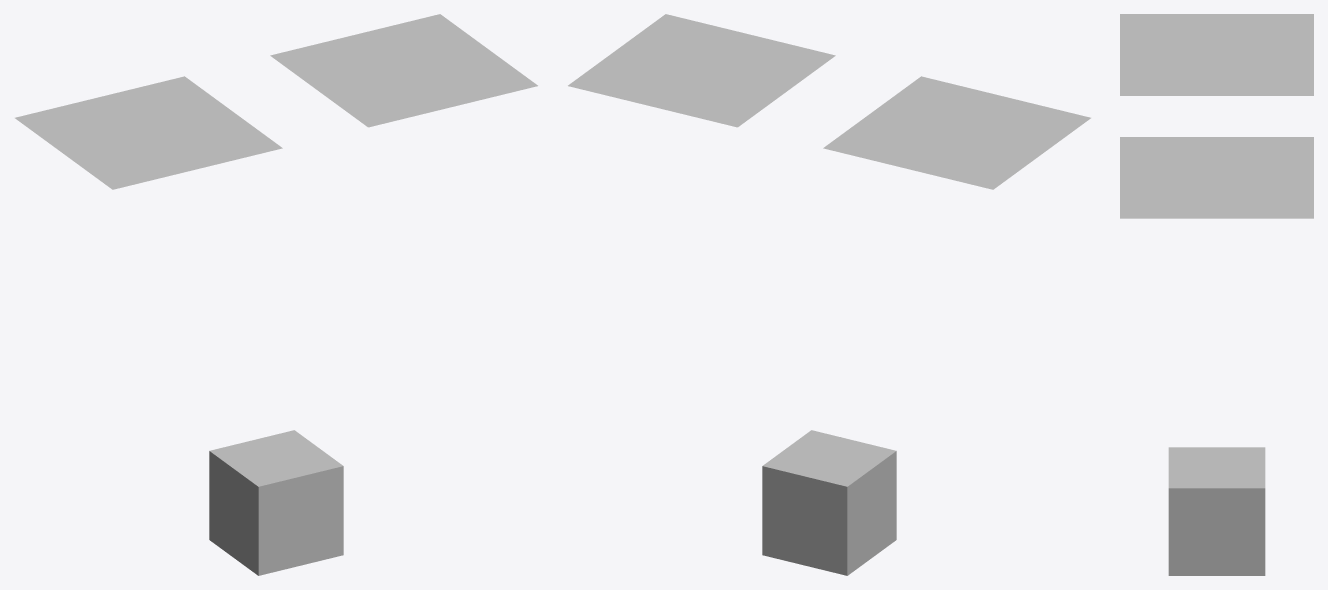
File: calib_plane_v1.glb
3 renders of one model, left to right at view 1: azimuth 30°, elevation 25°; view 2: azimuth 150°, elevation 25°; view 3: azimuth 270°, elevation 25°, orthographic.
Parts seen in each view (by area): view 1: down, up, Cube; view 2: down, up, Cube; view 3: down, up, Cube.
Boxes of the visible parts, x1,y1,x2,y2 form: down: (15,76,282,189); up: (270,14,537,127); Cube: (209,430,343,575); down: (823,76,1090,189); up: (568,14,835,127); Cube: (762,430,896,575); down: (1120,14,1313,95); up: (1120,137,1313,218); Cube: (1168,447,1265,575).
Bounding box in the file's own units: 5 × 5 × 2.
Materials: 1 (1 with a texture image).
